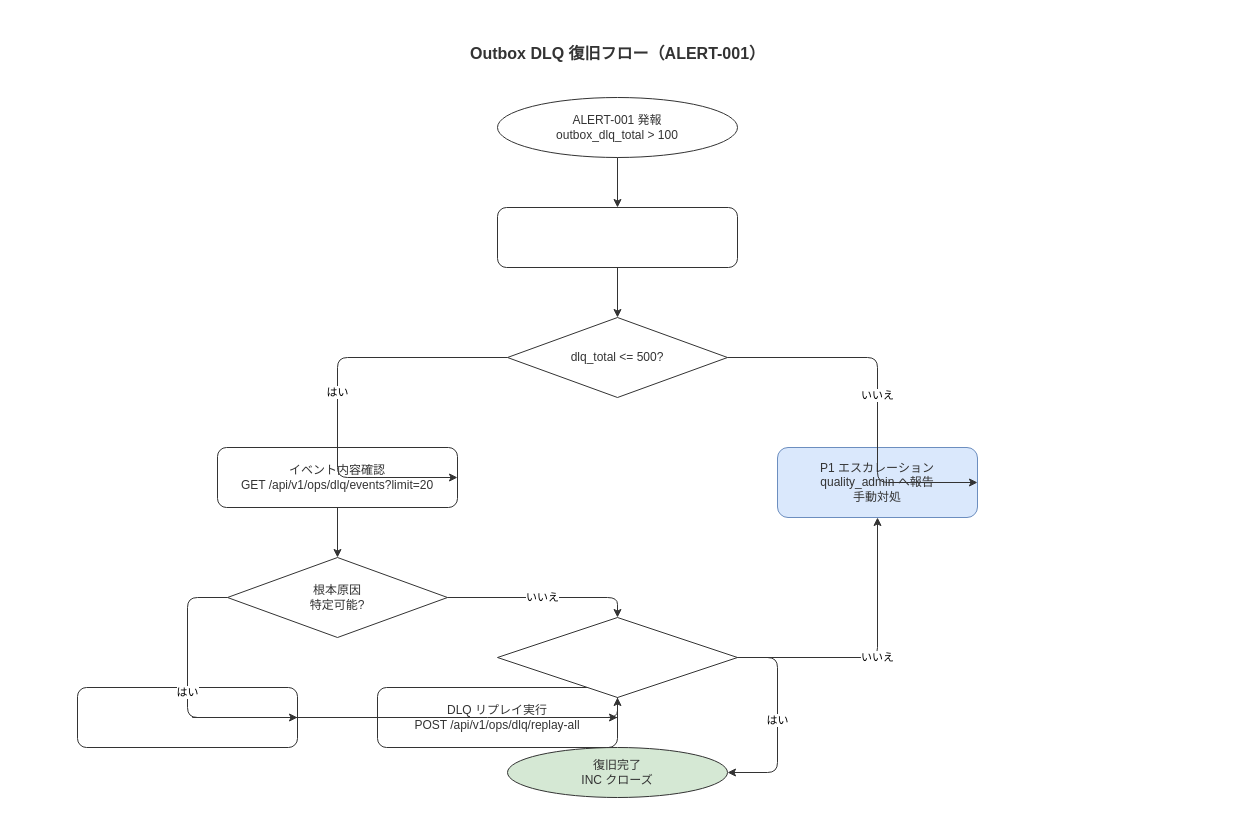
This 1234x834 diagram has some shape labels left out. The centre of each missing label's shape, as x and y in pixels:
"DLQ 統計確認 GET /api/v1/ops/dlq/stats" belongs at point (617, 237).
"リプレイ成功? dlq_total == 0?" belongs at point (617, 657).
"根本原因修正 （03_修正実施手順 参照）" belongs at point (187, 717).
